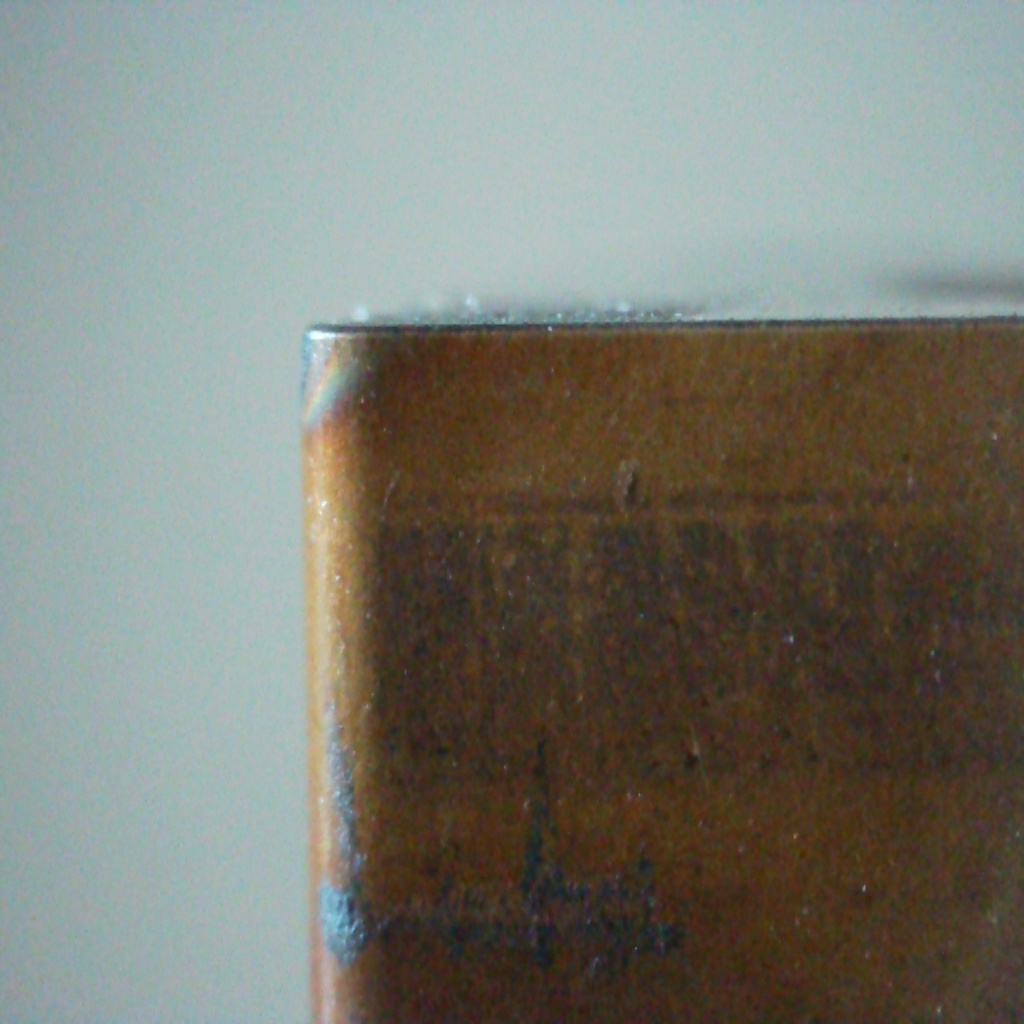flank_wear: (296, 322, 361, 439)
